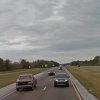Car: (14, 68, 77, 97)
